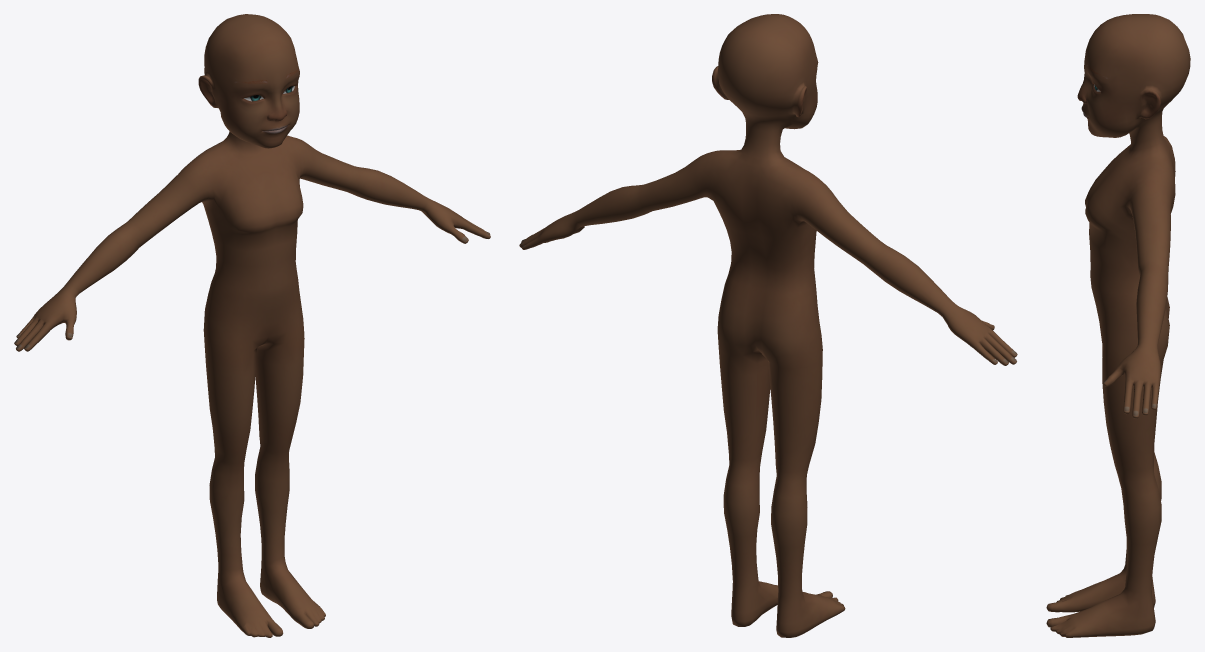
Rendered from frame_0057.glb.
The picture shows the model from 3 angles, left to right: view 1: azimuth 30°, elevation 25°; view 2: azimuth 150°, elevation 25°; view 3: azimuth 270°, elevation 25°; orthographic projection. The views are drawn at different scales.
Visible parts, largest first — view 1: frame_0057_head_geo; view 2: frame_0057_head_geo; view 3: frame_0057_head_geo.
Boxes of the visible parts, left/top/right/bottom form: frame_0057_head_geo: left=14, top=14, right=490, bottom=637; frame_0057_head_geo: left=519, top=14, right=1017, bottom=637; frame_0057_head_geo: left=1046, top=14, right=1190, bottom=637.
Bounding box in the file's own units: 1.28 × 1.5 × 0.3253.
3 materials, 3 textured.
